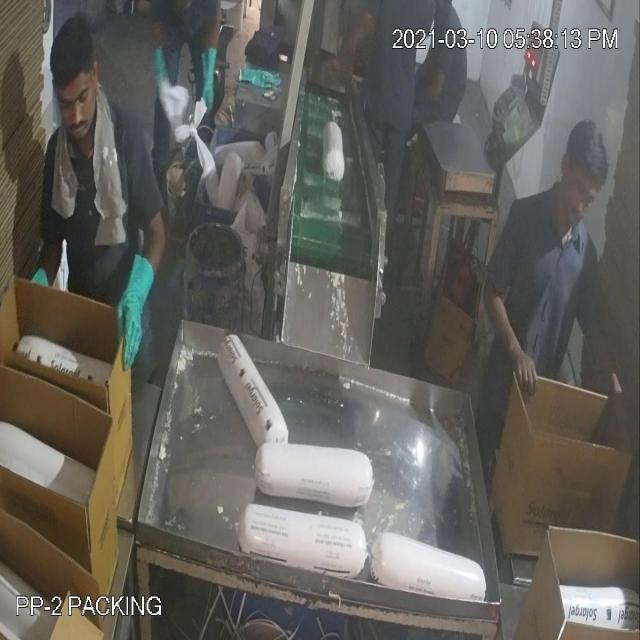No_Gloves: (71, 134, 510, 332)
